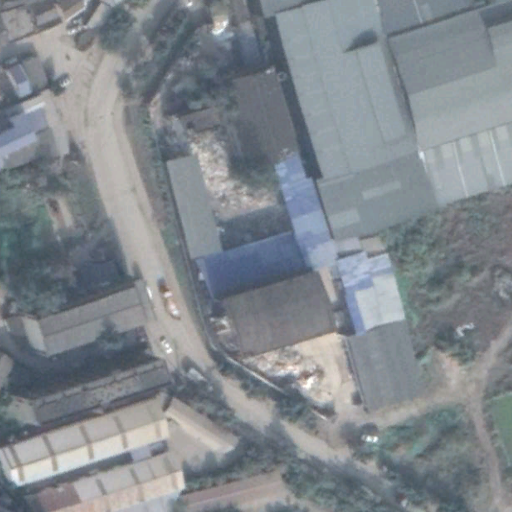msw: (189, 123, 283, 250), (250, 350, 325, 395)
